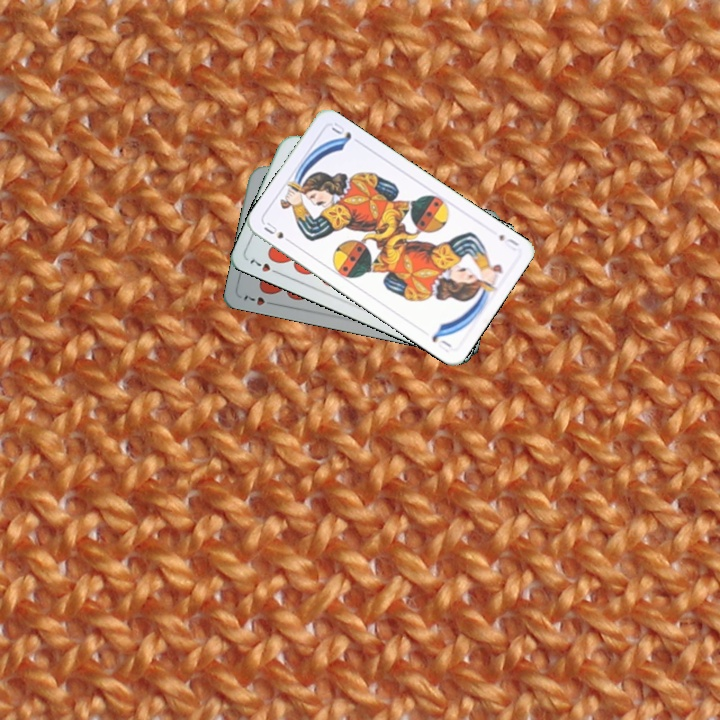H7: (246, 254, 283, 277), (240, 291, 278, 308)
SU: (260, 218, 296, 247), (495, 230, 522, 253)
